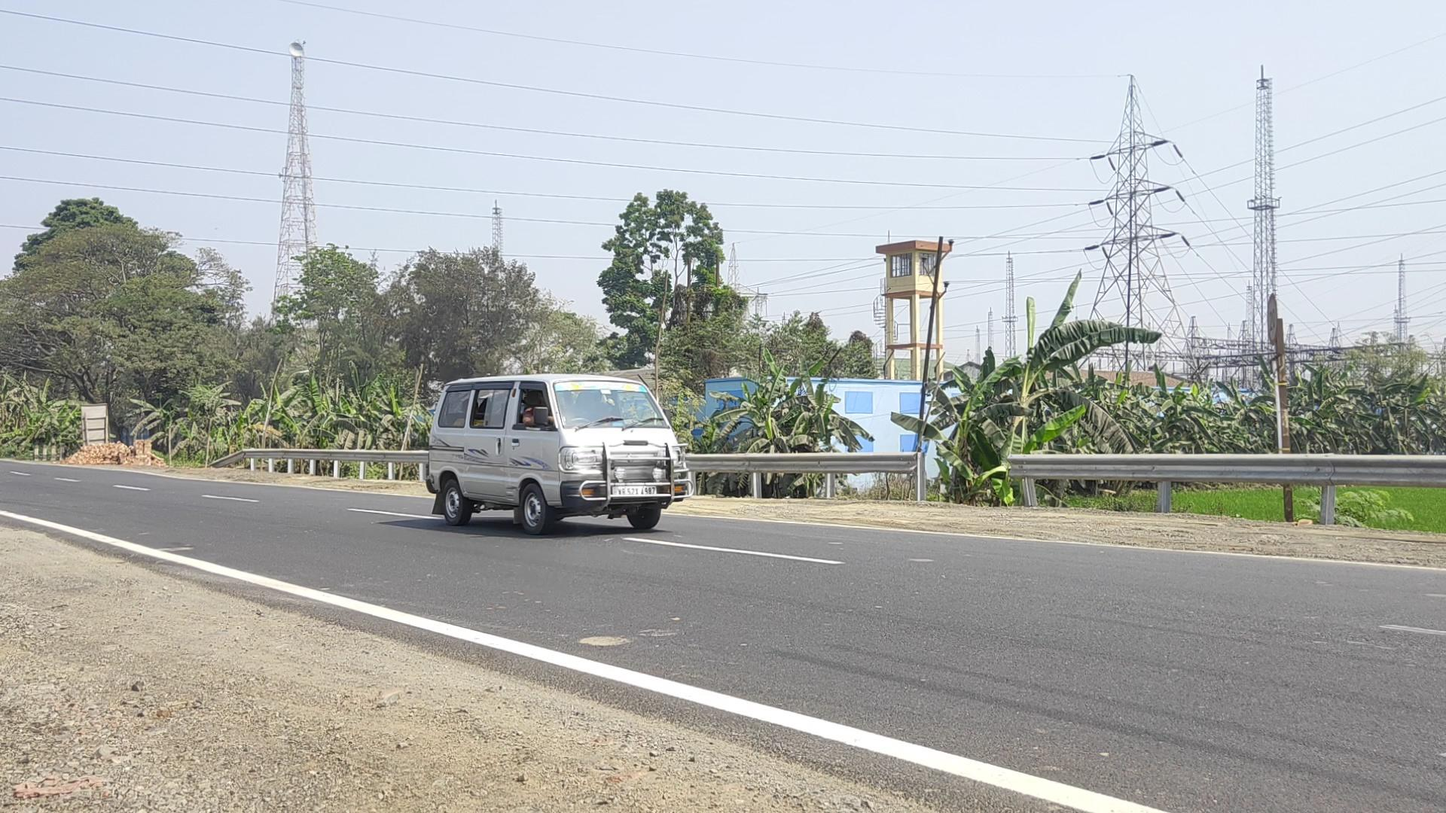van: (425, 373, 694, 537)
